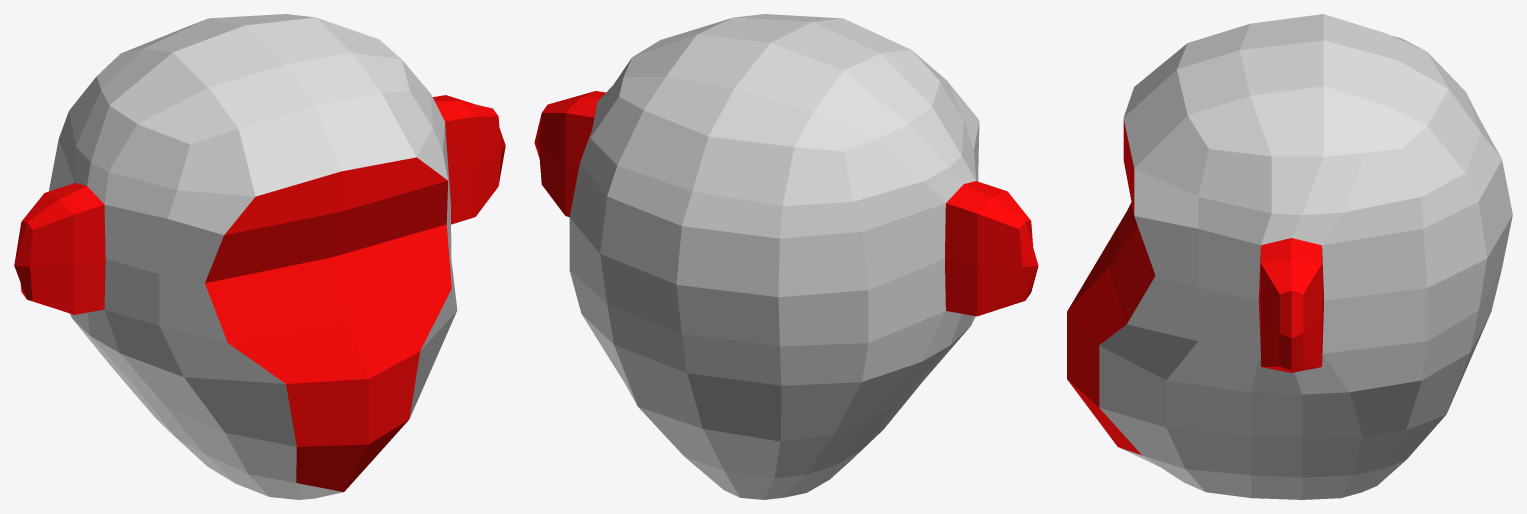
The model's file is Mono.glb.
The picture shows the model from 3 angles, left to right: view 1: azimuth 30°, elevation 25°; view 2: azimuth 150°, elevation 25°; view 3: azimuth 270°, elevation 25°; orthographic projection. The views are drawn at different scales.
Visible parts, largest first — view 1: Mono; view 2: Mono; view 3: Mono.
Part boxes in pixels (x1,y1,x2,y2): Mono: [14, 14, 505, 499]; Mono: [534, 14, 1038, 499]; Mono: [1067, 14, 1512, 499].
Size of the model in its own units: 0.5486 by 0.45 by 0.4172.
